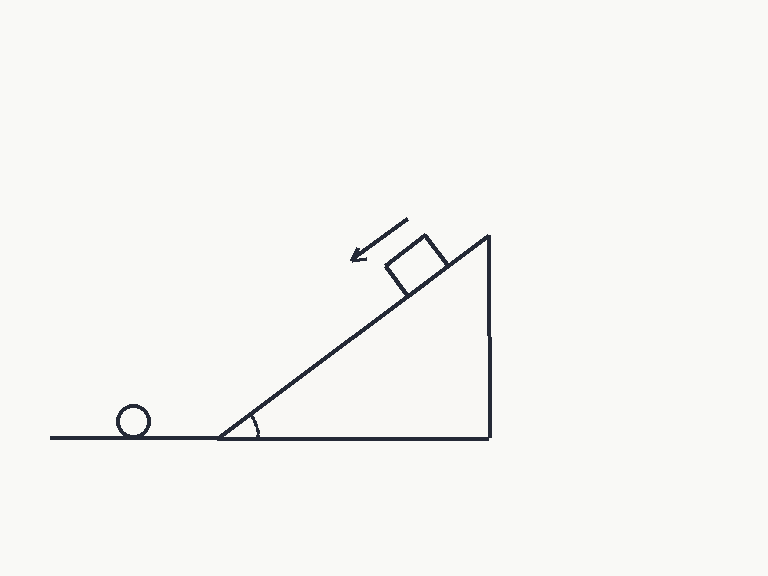ball: (114, 402, 152, 440)
block: (383, 233, 450, 298)
ramp: (216, 233, 490, 440)
